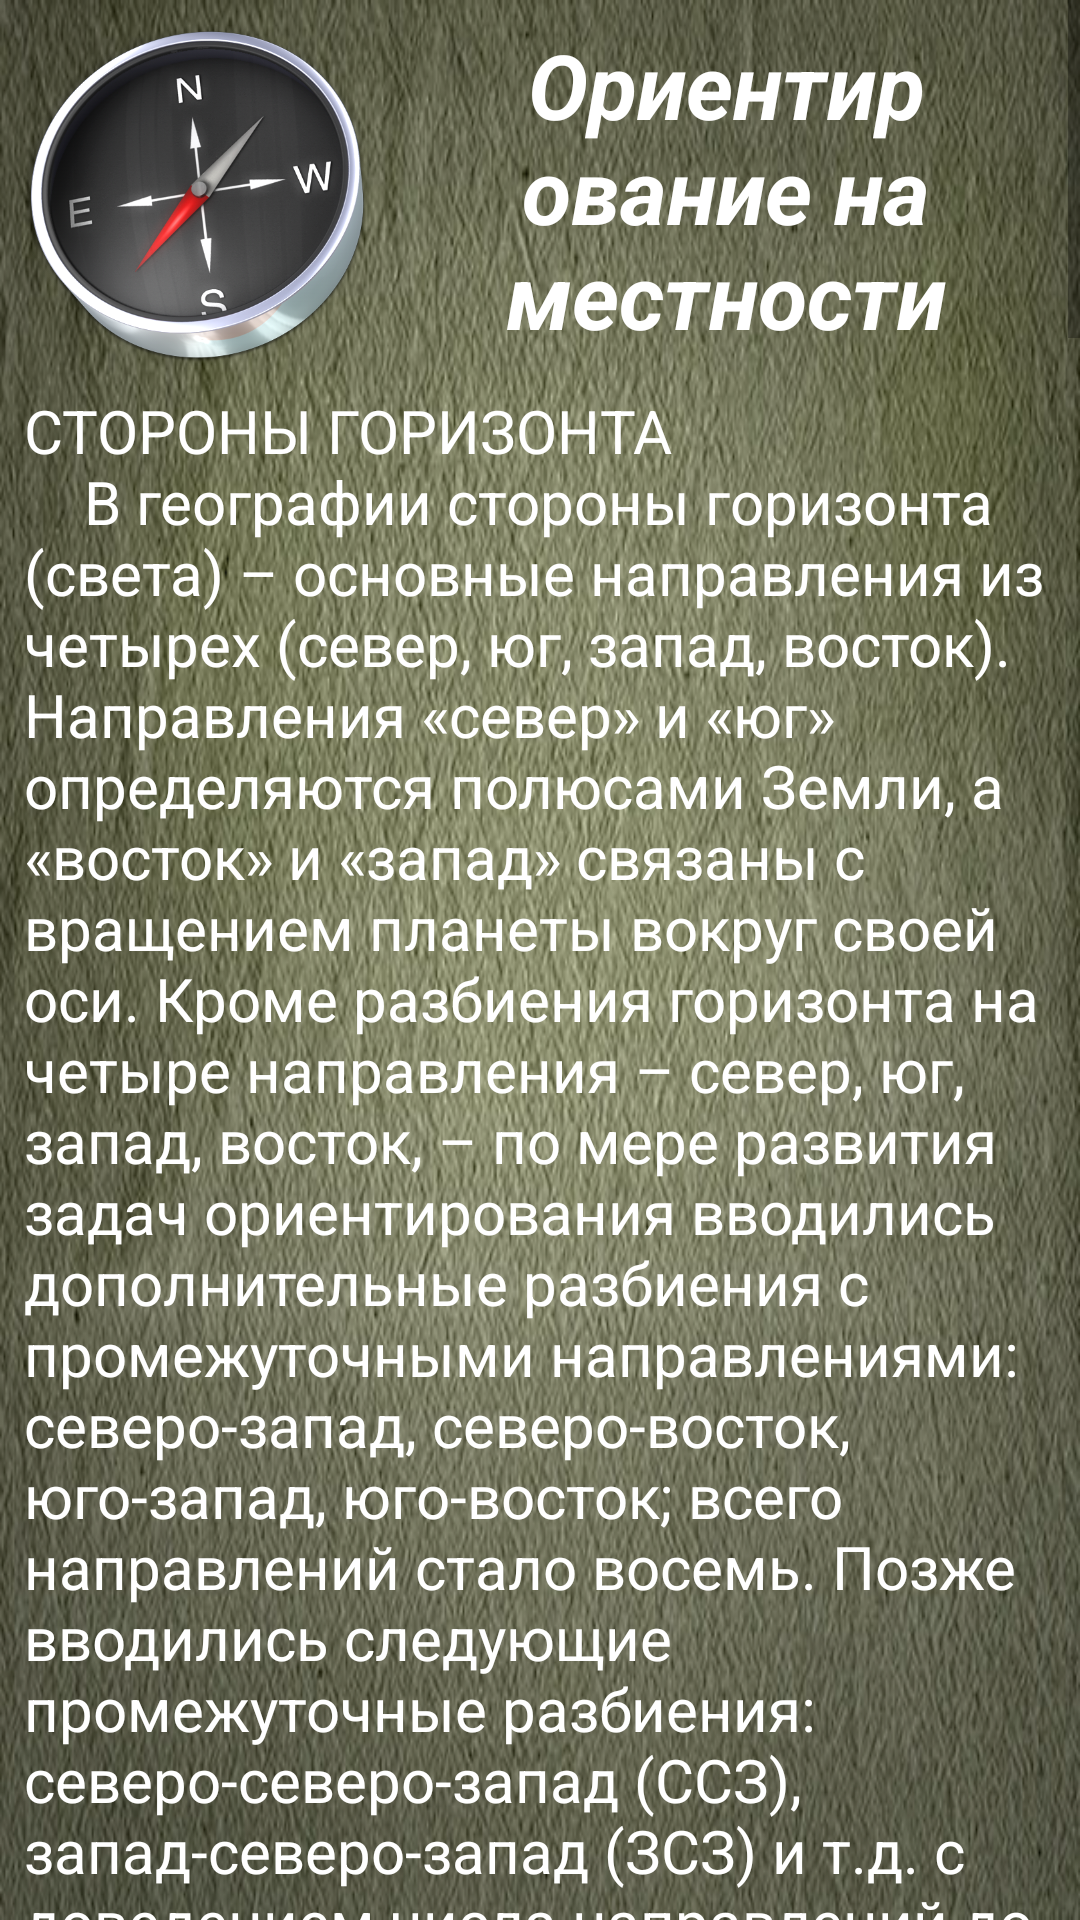

Locate icon controls on the screen. Image size 1080x1920, boxes as rect(x1, y1, x2, y2).
compassone: rect(24, 24, 372, 366)
